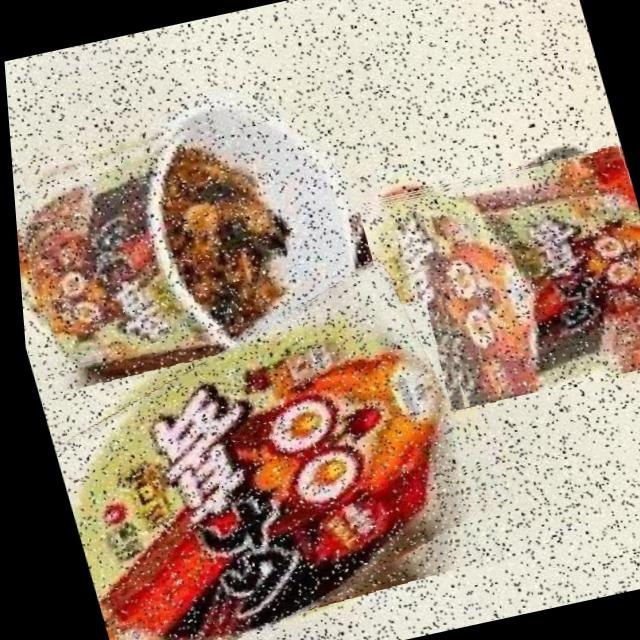Miscellaneous: (16, 267, 516, 640), (5, 93, 368, 393), (348, 144, 640, 417)
